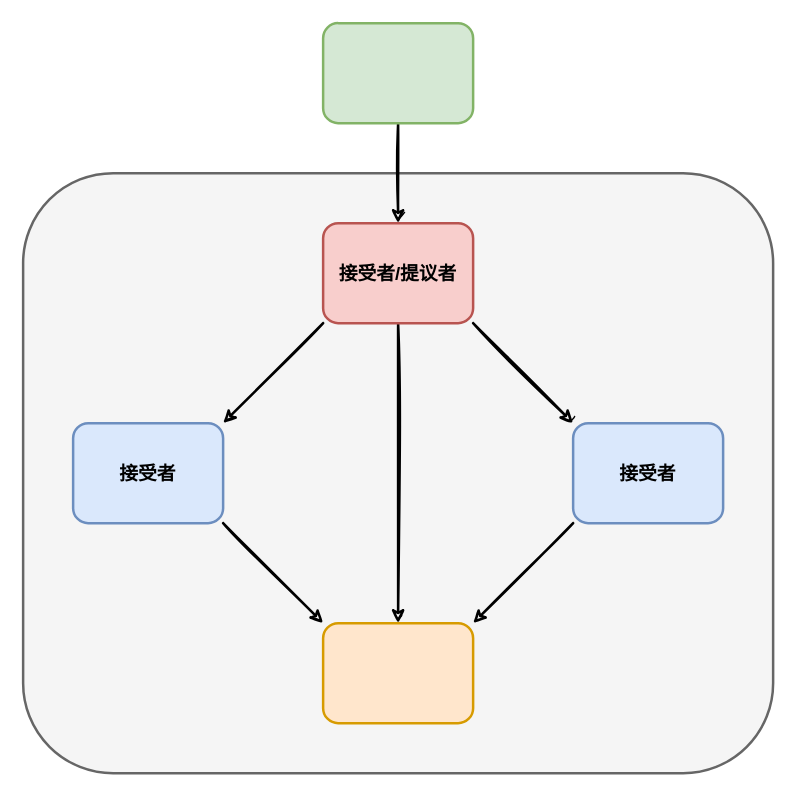
Image size: 795x795. Some labels were removed from this diagram. The shapes that lost their labels are listed below. From the top down, each one's centre as x and y in pixels, then its label:
point 397,72: client
point 397,672: 学习者
